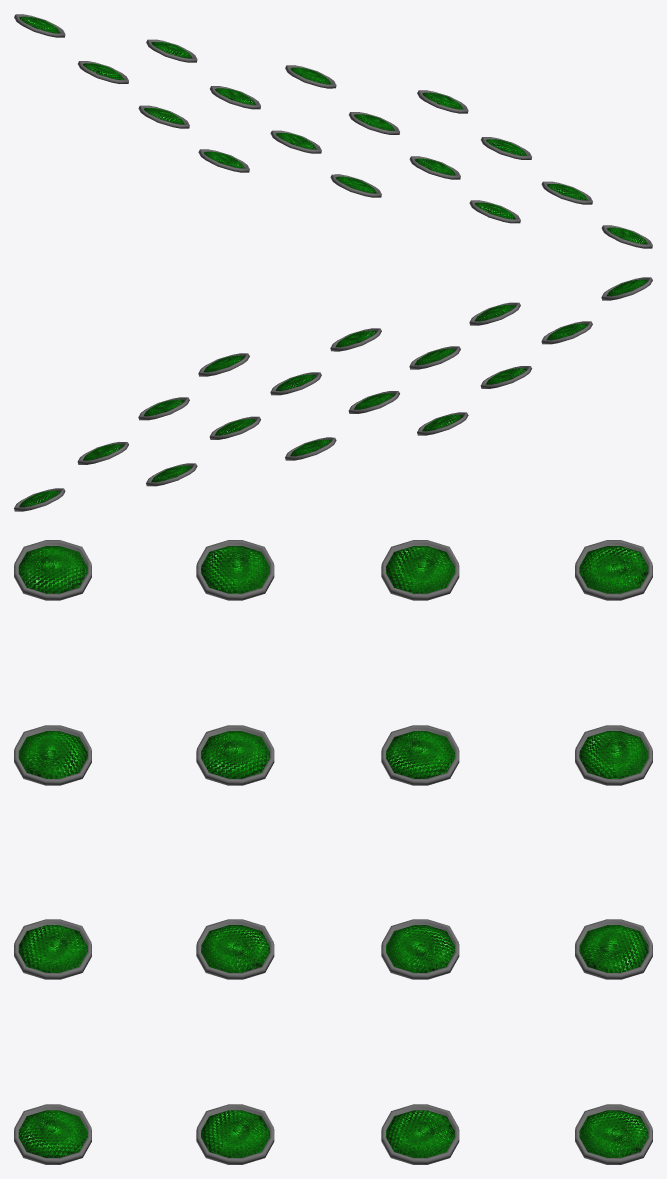
The model's file is buttons.fbx.
The picture shows the model from 3 angles, top to bottom: view 1: azimuth 30°, elevation 25°; view 2: azimuth 150°, elevation 25°; view 3: azimuth 270°, elevation 25°; orthographic projection. The views are drawn at different scales.
Parts seen in each view (by area): view 1: Cube.151, Cube.152, Cube.070, Cube.076, Cube.088, Cube.157, Cube.153, Cube.082, Cube.156, Cube.079, Cube.085, Cube.067 (+4 smaller); view 2: Cube.076, Cube.067, Cube.153, Cube.079, Cube.154, Cube.151, Cube.070, Cube.156, Cube.088, Cube.073, Cube.152, Cube.085 (+4 smaller); view 3: Cube.111, Cube.155, Cube.156, Cube.151, Cube.073, Cube.076, Cube.082, Cube.085, Cube.067, Cube.152, Cube.070, Cube.153 (+4 smaller).
Part boxes in pixels (x1,y1,x2,y2): Cube.151: (541, 181, 592, 204); Cube.152: (601, 225, 652, 248); Cube.070: (285, 65, 336, 88); Cube.076: (409, 156, 460, 179); Cube.088: (330, 174, 381, 197); Cube.157: (198, 149, 249, 172); Cube.153: (469, 200, 520, 223); Cube.082: (210, 86, 260, 109); Cube.156: (138, 105, 189, 128); Cube.079: (146, 39, 197, 62); Cube.085: (270, 130, 321, 153); Cube.067: (417, 90, 468, 113); Cube.076: (270, 372, 321, 395); Cube.067: (14, 488, 65, 511); Cube.153: (330, 328, 381, 351); Cube.079: (285, 437, 336, 460); Cube.154: (417, 412, 468, 435); Cube.151: (138, 397, 189, 420); Cube.070: (146, 463, 197, 486); Cube.156: (541, 321, 592, 344); Cube.088: (469, 302, 520, 325); Cube.073: (209, 416, 260, 439); Cube.152: (198, 353, 249, 376); Cube.085: (409, 346, 460, 369); Cube.111: (381, 1104, 459, 1164); Cube.155: (381, 540, 459, 600); Cube.156: (196, 540, 274, 600); Cube.151: (196, 1104, 274, 1164); Cube.073: (381, 919, 459, 979); Cube.076: (196, 919, 274, 979); Cube.082: (381, 725, 459, 785); Cube.085: (196, 725, 274, 785); Cube.067: (575, 1104, 652, 1164); Cube.152: (14, 1104, 91, 1164); Cube.070: (575, 919, 652, 979); Cube.153: (14, 919, 91, 979).
Size of the model in its own units: 31.43 by 13.15 by 25.7.
Materials: 2 (1 with a texture image).
